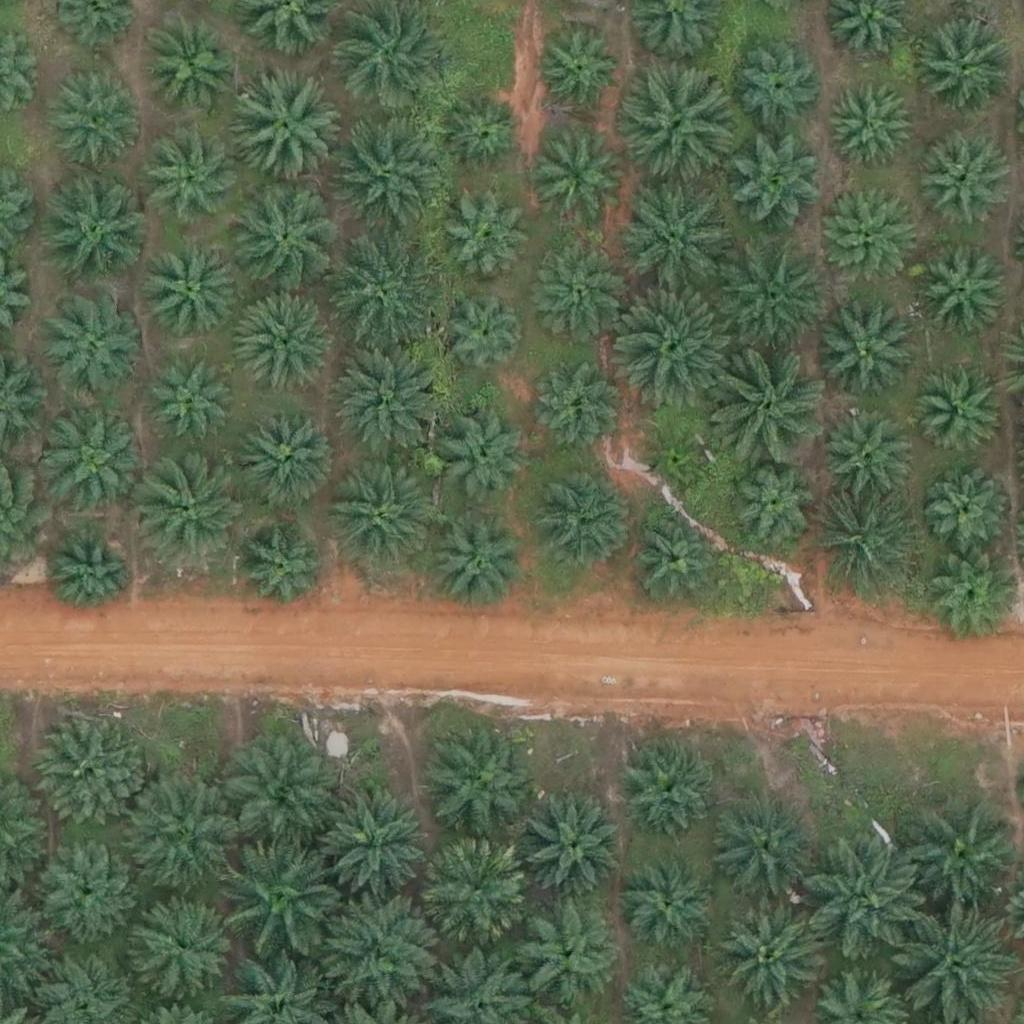Kelapa_Sawit: (423, 723, 536, 837), (321, 787, 434, 901), (712, 346, 825, 460), (335, 118, 448, 232), (807, 842, 920, 955), (893, 899, 1006, 1012), (419, 837, 532, 950), (317, 901, 430, 1014), (227, 838, 340, 951), (34, 719, 147, 832), (811, 485, 924, 598), (621, 60, 734, 173), (225, 74, 338, 187), (711, 792, 823, 906), (508, 903, 620, 1017), (131, 776, 243, 890), (323, 459, 435, 573), (907, 798, 1019, 911), (225, 739, 337, 852), (715, 239, 827, 352), (620, 181, 732, 294), (617, 292, 729, 405), (326, 237, 438, 350), (334, 349, 446, 462), (228, 181, 340, 294), (138, 455, 250, 568), (618, 741, 718, 842), (521, 799, 621, 900), (133, 892, 233, 993), (35, 833, 135, 934), (823, 193, 923, 294), (819, 403, 919, 504), (726, 454, 826, 555), (721, 134, 821, 235), (534, 472, 634, 573), (428, 516, 528, 617), (239, 407, 339, 508), (142, 15, 242, 116), (144, 132, 244, 233), (140, 243, 240, 344), (45, 64, 145, 165), (44, 183, 144, 284), (41, 292, 141, 393), (720, 911, 820, 1011), (619, 855, 719, 955), (917, 23, 1017, 123), (921, 549, 1021, 649), (819, 312, 919, 412), (238, 290, 338, 390), (46, 415, 146, 515), (919, 246, 1007, 334), (912, 370, 1000, 458), (916, 462, 1004, 550), (825, 82, 913, 170), (535, 247, 623, 335), (444, 198, 532, 286), (440, 292, 528, 380), (240, 530, 328, 618), (632, 513, 719, 602), (536, 28, 623, 117), (152, 358, 239, 447), (921, 134, 1008, 222), (737, 41, 824, 129), (540, 143, 627, 231), (533, 363, 620, 451), (439, 95, 526, 183), (440, 409, 527, 497), (47, 530, 134, 618), (648, 431, 711, 494)
